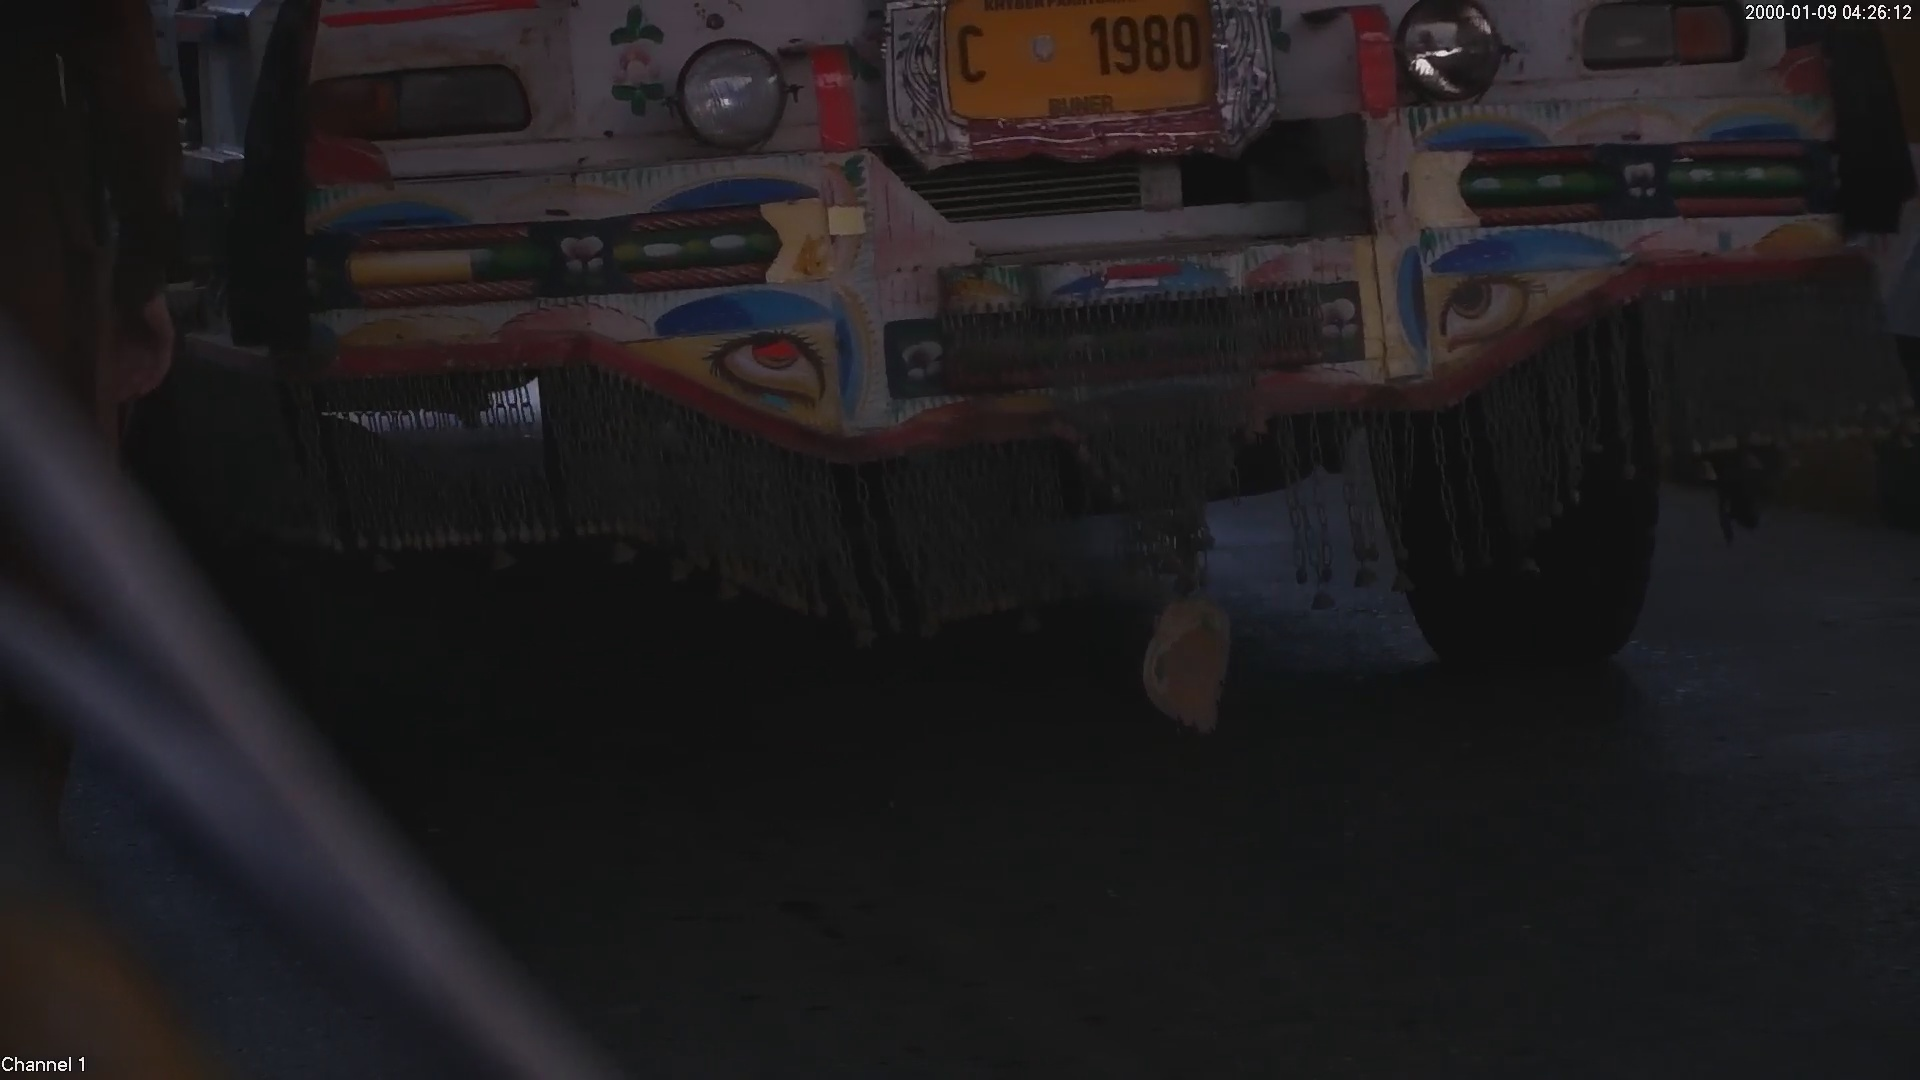Number_Plate: (937, 1, 1267, 149)
